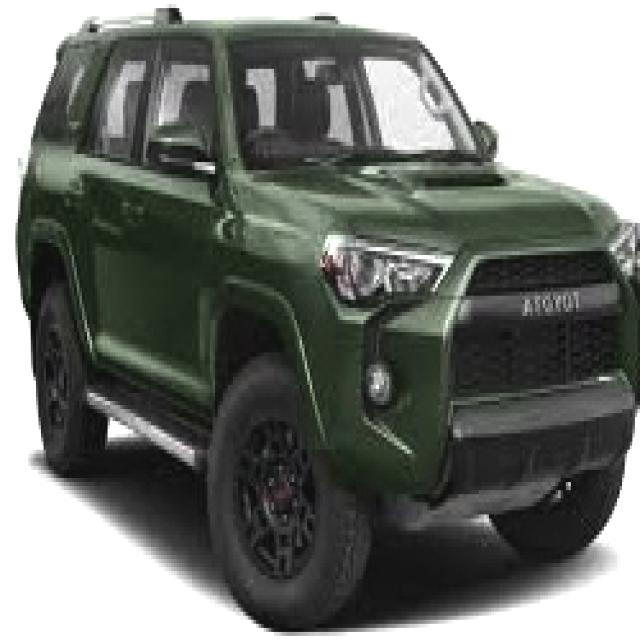green: (24, 16, 628, 614)
